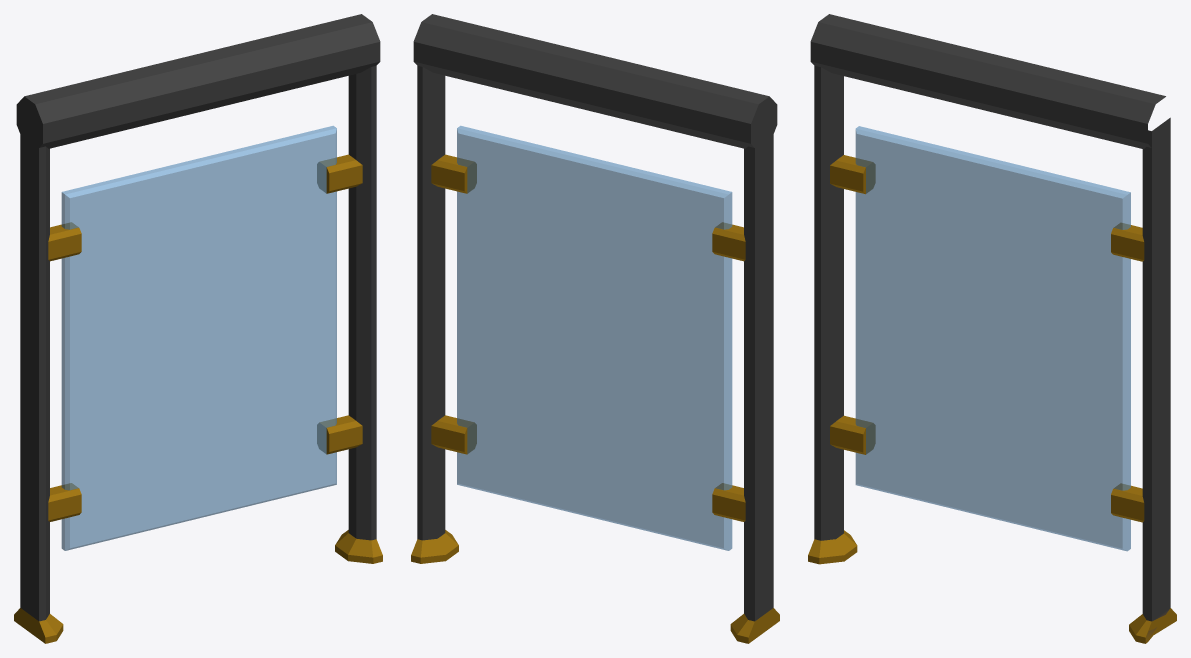
Rendered from glass_rope_1.glb.
3 views of the same model, side by side, from view 1: azimuth 30°, elevation 25°; view 2: azimuth 150°, elevation 25°; view 3: azimuth 330°, elevation 25° (orthographic).
Visible parts, largest first — view 1: glass, frame; view 2: glass, frame; view 3: glass, frame.
Part boxes in pixels (x1,y1,x2,y2): glass: [61, 125, 336, 550]; frame: [14, 14, 382, 643]; glass: [457, 125, 732, 550]; frame: [411, 14, 779, 643]; glass: [855, 126, 1130, 551]; frame: [808, 14, 1176, 643].
Size of the model in its own units: 0.6637 by 1 by 0.107.
